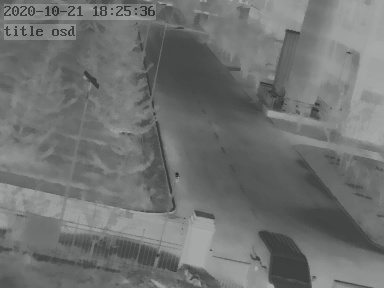vehicle: (250, 228, 314, 288)
